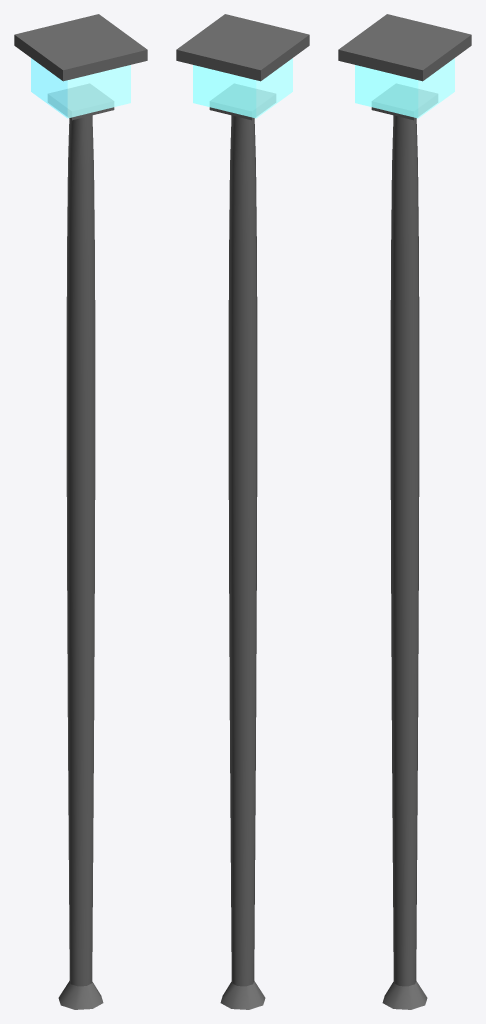
The model's file is Street Lights(2).glb.
3 renders of one model, left to right at view 1: azimuth 30°, elevation 25°; view 2: azimuth 150°, elevation 25°; view 3: azimuth 330°, elevation 25°, orthographic.
Visible parts, largest first — view 1: Root; view 2: Root; view 3: Root.
Boxes of the visible parts, x1=… form: Root: x1=14, y1=14, x2=147, y2=1009; Root: x1=176, y1=14, x2=309, y2=1009; Root: x1=338, y1=14, x2=471, y2=1009.
Size of the model in its own units: 0.2252 by 2.44 by 0.2252.
